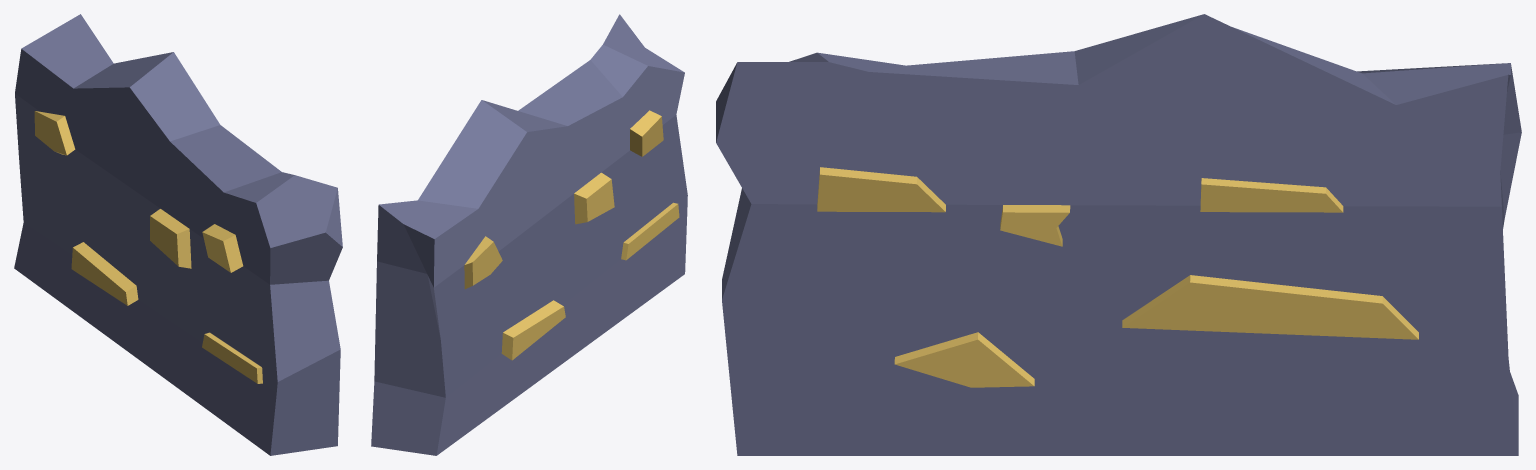
File: WALL.fbx
3 views of the same model, side by side, from view 1: azimuth 30°, elevation 25°; view 2: azimuth 150°, elevation 25°; view 3: azimuth 270°, elevation 25° (orthographic). The views are drawn at different scales.
Parts seen in each view (by area): view 1: Cube; view 2: Cube; view 3: Cube.
Boxes of the visible parts, x1,y1,x2,y2 form: Cube: (14, 14, 342, 455); Cube: (371, 14, 687, 455); Cube: (716, 14, 1521, 455).
Size of the model in its own units: 101 by 309 by 521.
